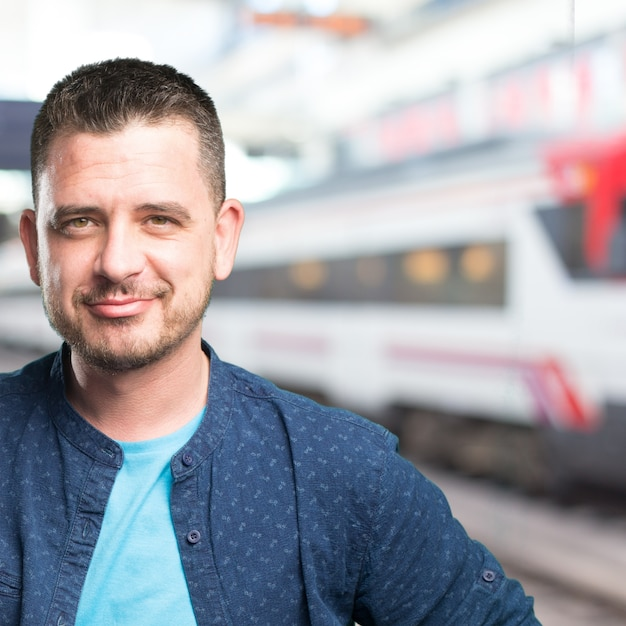young: (36, 66, 262, 372)
